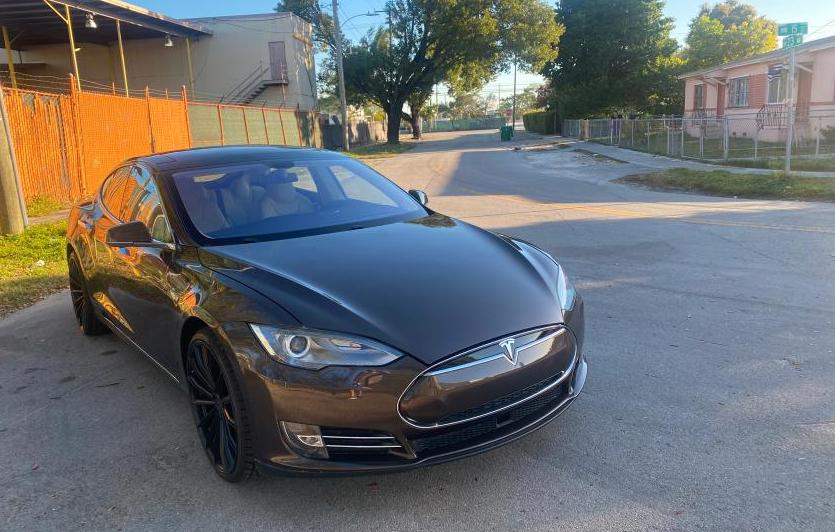Back-door: (74, 164, 133, 318)
Back-wheel: (69, 254, 108, 337)
Back-window: (101, 165, 133, 219)
Fender: (168, 261, 305, 390)
Front-bumper: (213, 294, 589, 473)
Front-door: (104, 165, 180, 381)
Front-wheel: (187, 328, 258, 485)
Front-window: (118, 166, 174, 243)
Grille: (403, 372, 568, 461)
Headlight: (248, 321, 407, 371), (555, 260, 578, 319)
Hood: (200, 213, 564, 364)
Mirror: (105, 220, 199, 273), (409, 190, 428, 205)
Quarter-panel: (66, 206, 80, 247)
Rocker-panel: (91, 307, 188, 398)
Roof: (121, 145, 353, 173)
Windshield: (160, 159, 431, 247)
